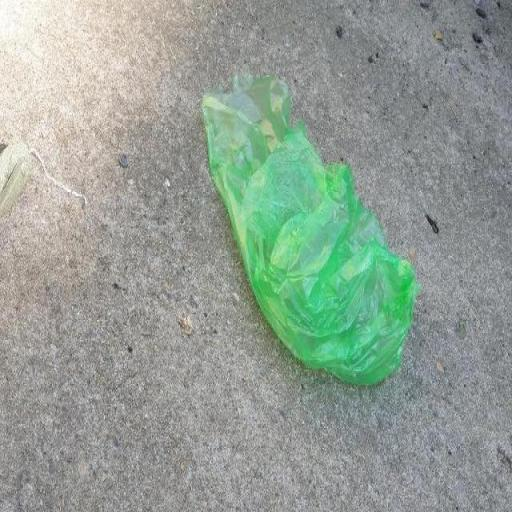plastic-bag: (200, 67, 425, 389)
